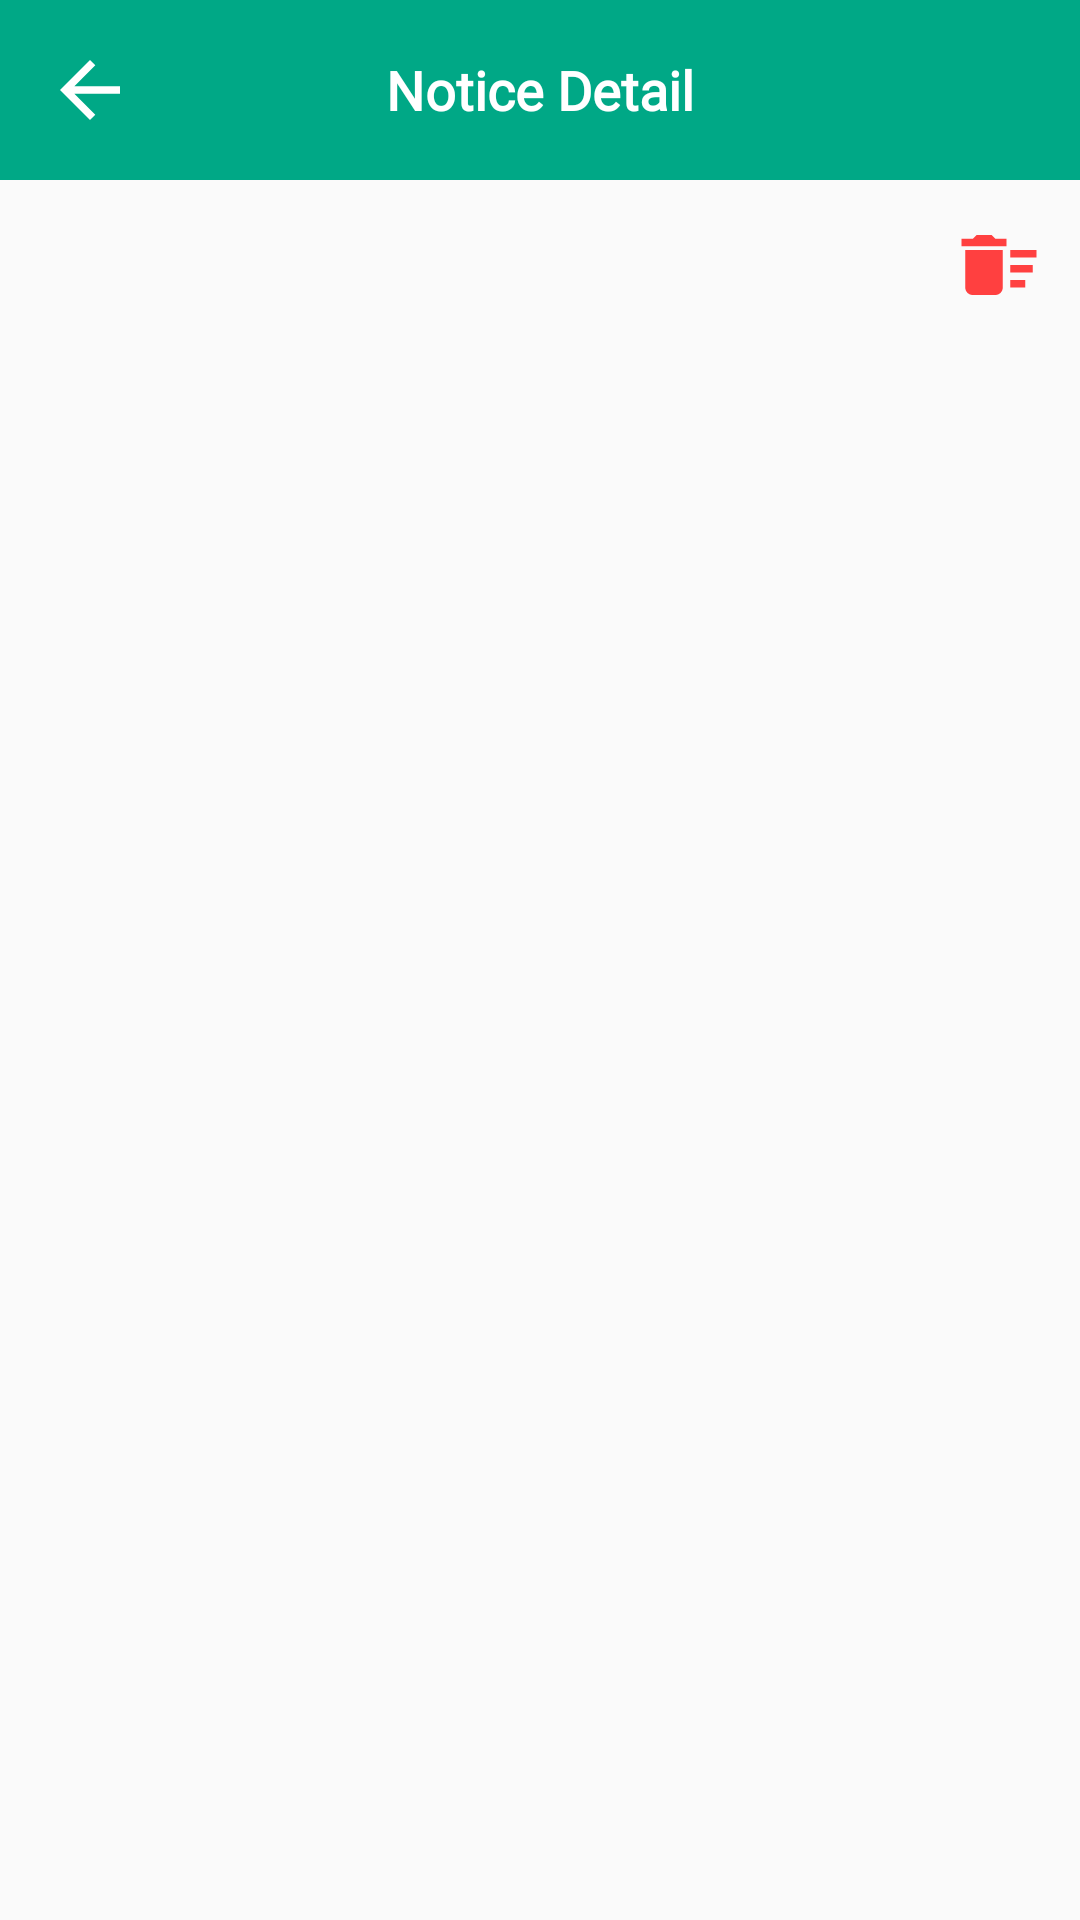

Named icons in this screenshot (1080*1920) and their centers, (x=x, y=y):
back arrow: (x=90, y=90)
delete sweep: (x=999, y=265)
